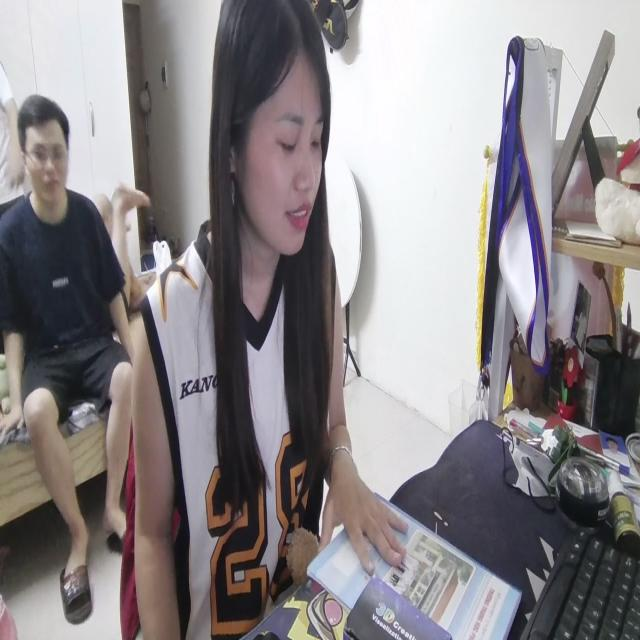book: (309, 482, 519, 640)
extra_person: (3, 96, 143, 607)
student: (129, 0, 410, 640)
